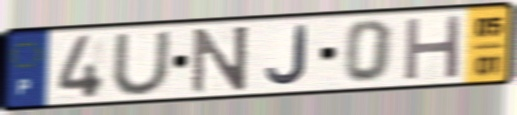0: (341, 17, 395, 86)
4: (54, 31, 107, 101)
H: (401, 12, 465, 83)
J: (263, 23, 310, 88)
N: (190, 23, 252, 96)
U: (108, 28, 174, 98)
